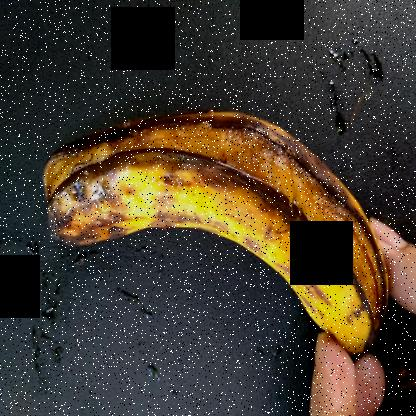rotten: (34, 89, 393, 360)
